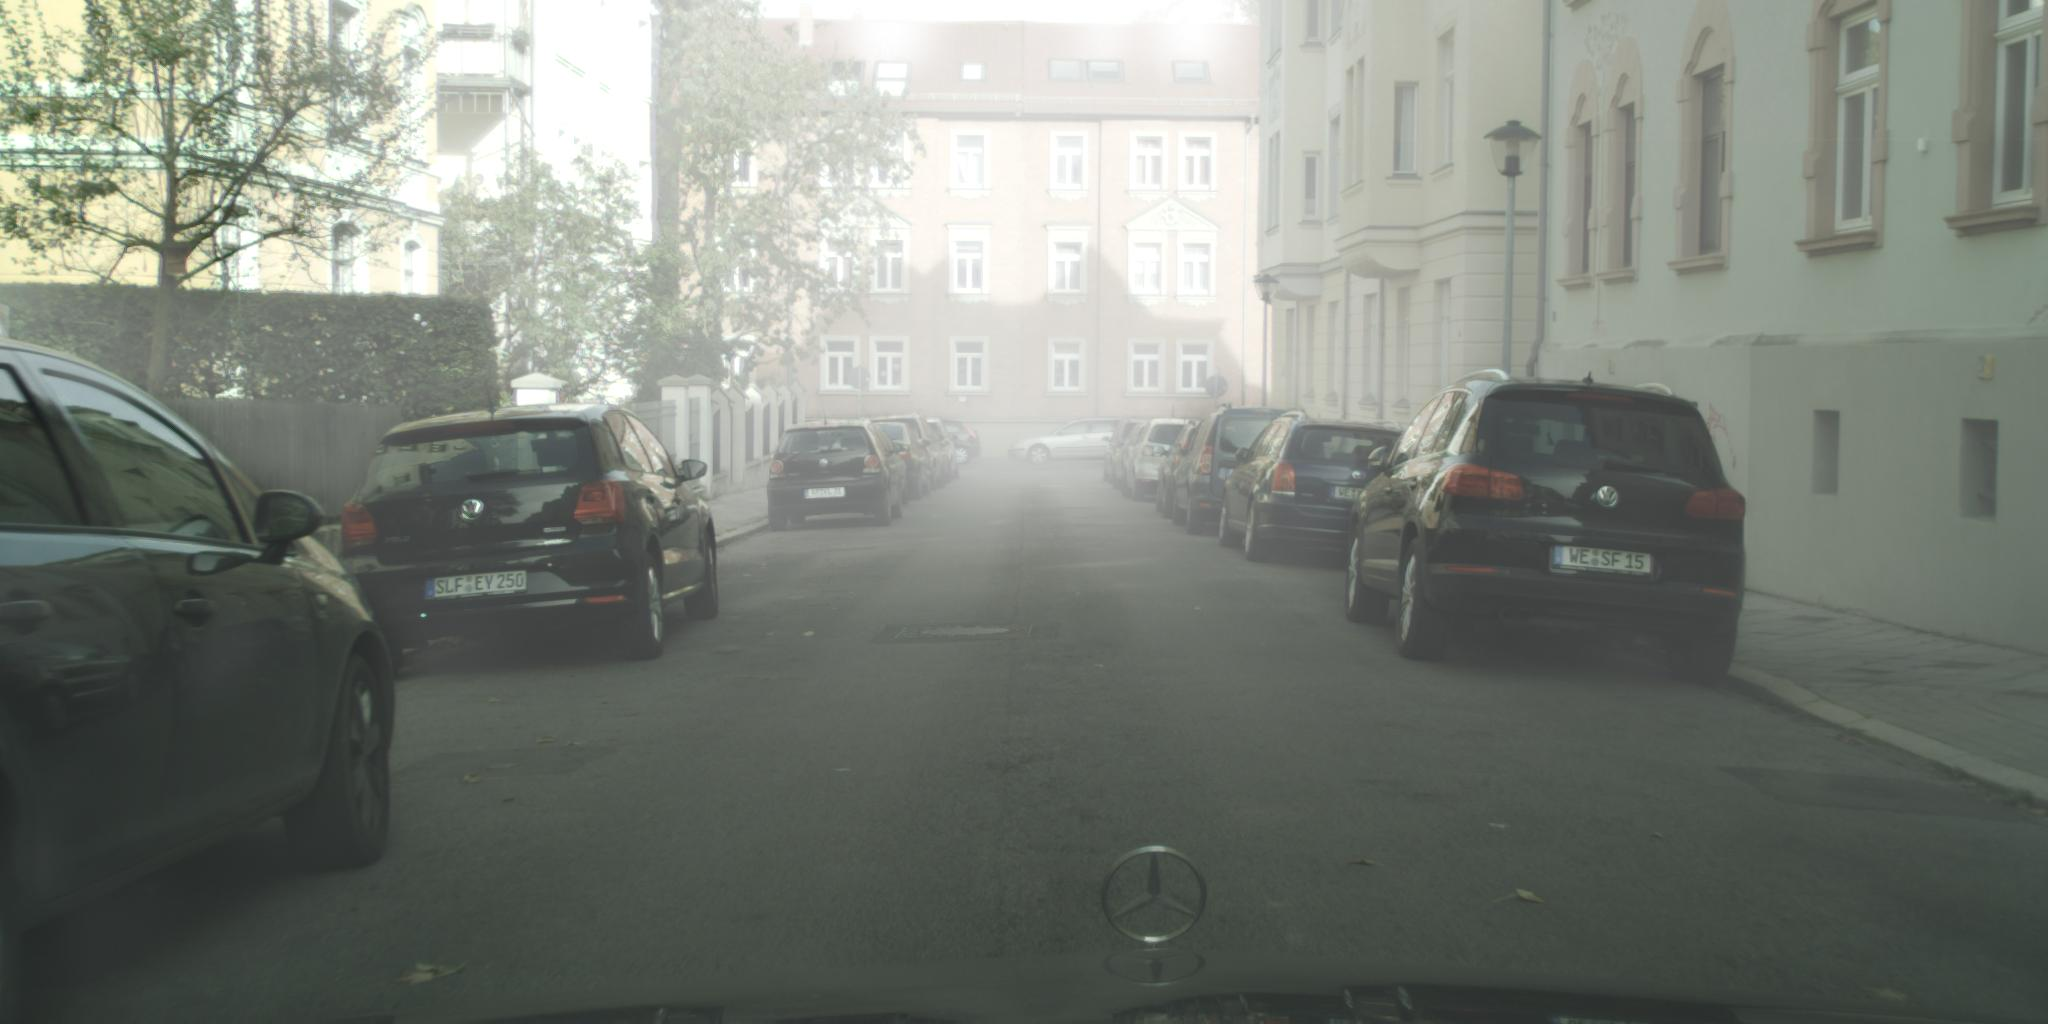car: (1, 337, 398, 951), (1341, 368, 1749, 683), (340, 406, 722, 682), (1217, 409, 1424, 564), (765, 418, 910, 533), (1162, 402, 1284, 536), (1119, 421, 1198, 503), (1008, 418, 1134, 465), (870, 415, 950, 488), (866, 423, 933, 499), (1153, 422, 1203, 519), (1114, 419, 1152, 492), (921, 418, 961, 479), (1102, 419, 1142, 482), (938, 421, 984, 465)
